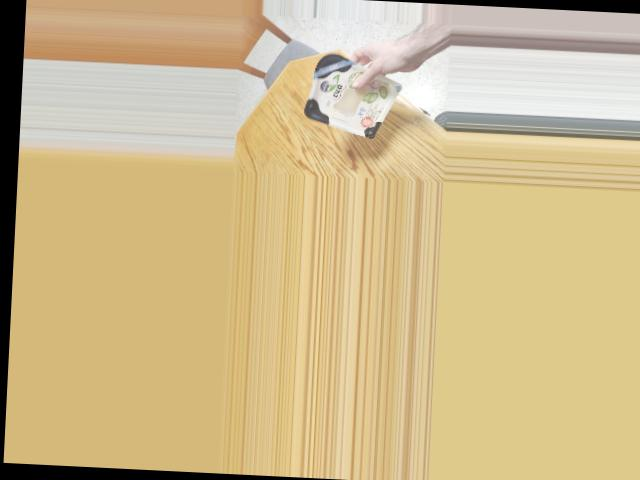cheese: (301, 49, 388, 137)
